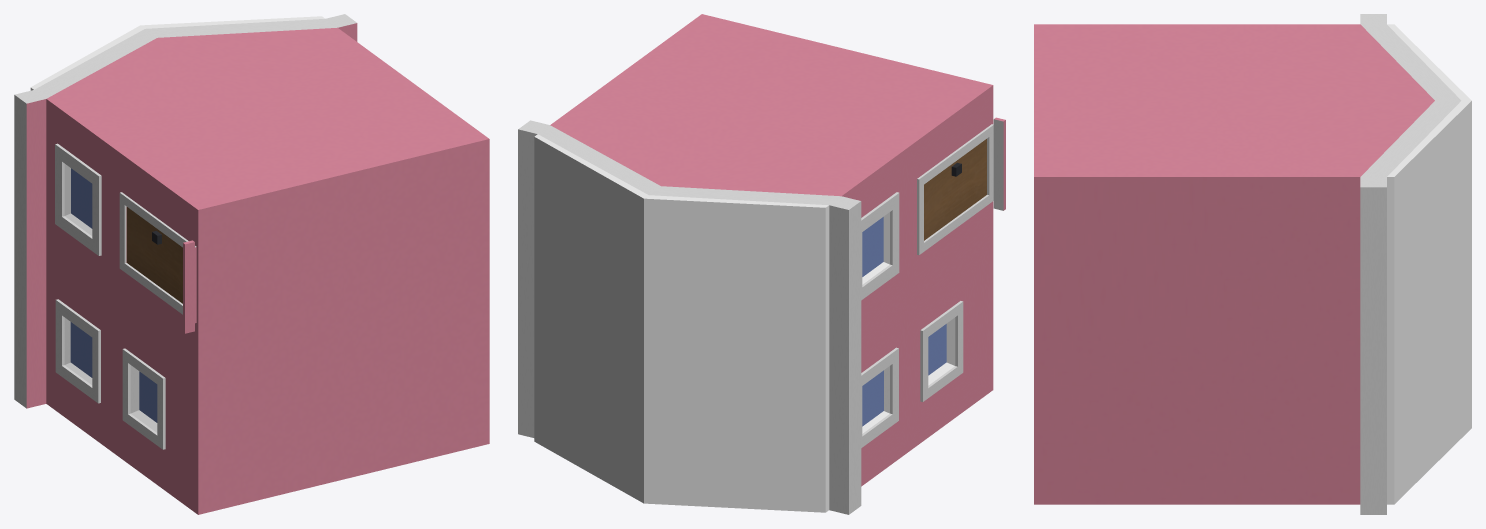
Rendered from venice_murano_9.fbx.
3 views of the same model, side by side, from view 1: azimuth 30°, elevation 25°; view 2: azimuth 150°, elevation 25°; view 3: azimuth 270°, elevation 25° (orthographic). The views are drawn at different scales.
Visible parts, largest first — view 1: Cube.330; view 2: Cube.330; view 3: Cube.330.
Part boxes in pixels (<box>): Cube.330: <box>14,14,489,514</box>; Cube.330: <box>518,14,1005,514</box>; Cube.330: <box>1034,14,1471,514</box>.
Bounding box in the file's own units: 897 × 790 × 956.
